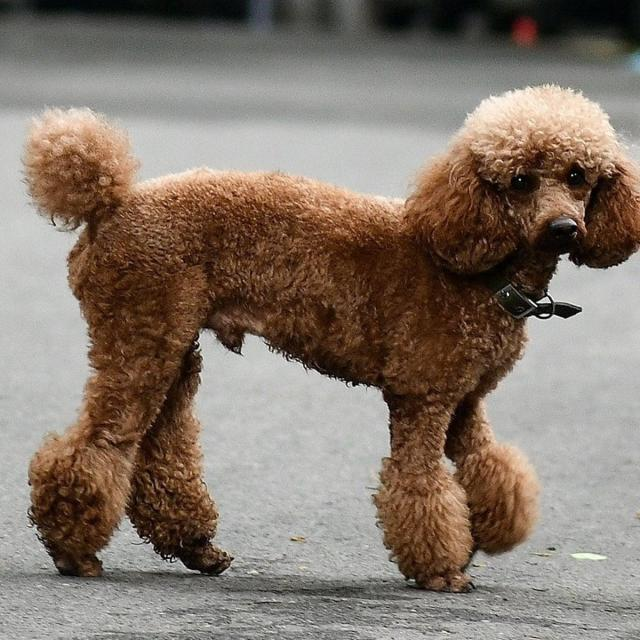dog: (28, 62, 610, 594)
